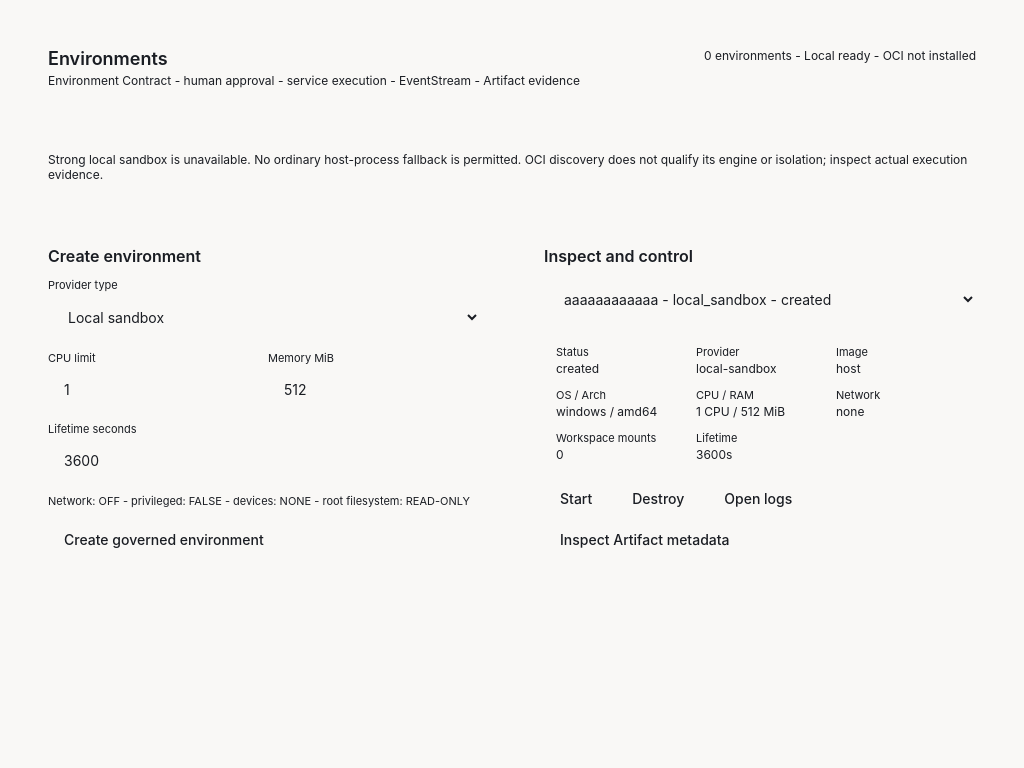
Scenario: environment inspector › shows persisted failure after approval without offering the spent decision again
Click the button "Start" at {"x": 576, "y": 498}, box [544,482,608,515]
(page scrolled)
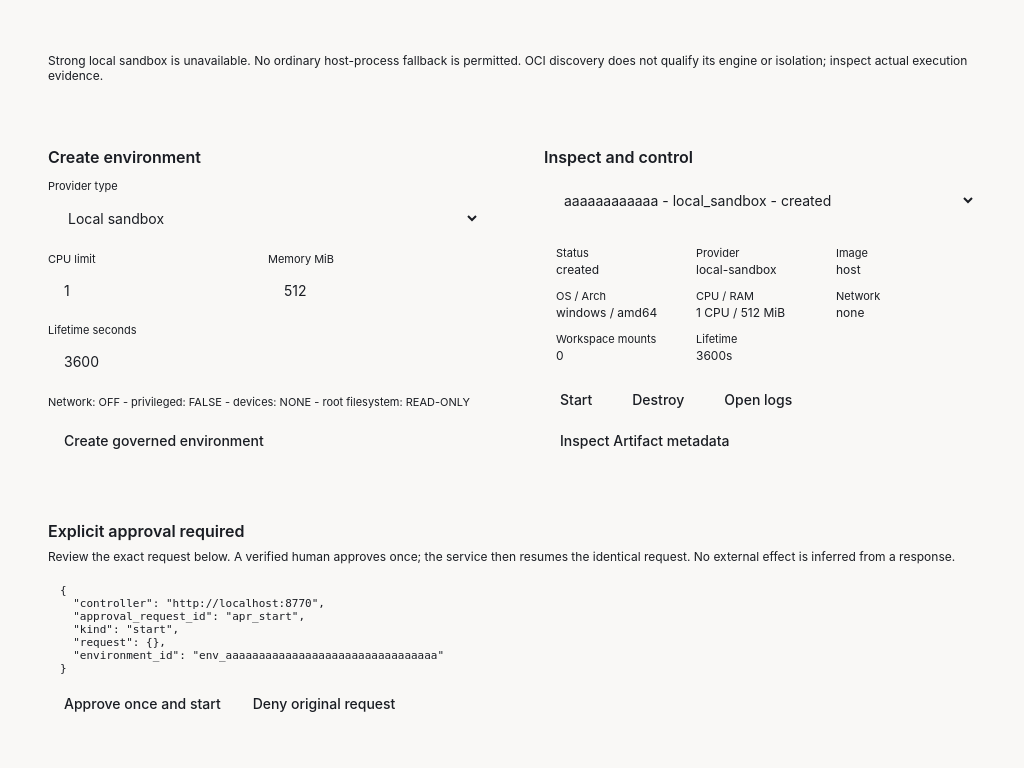
Click the button "Approve once and start" at {"x": 142, "y": 704}, box [48,687,237,720]
(page scrolled)
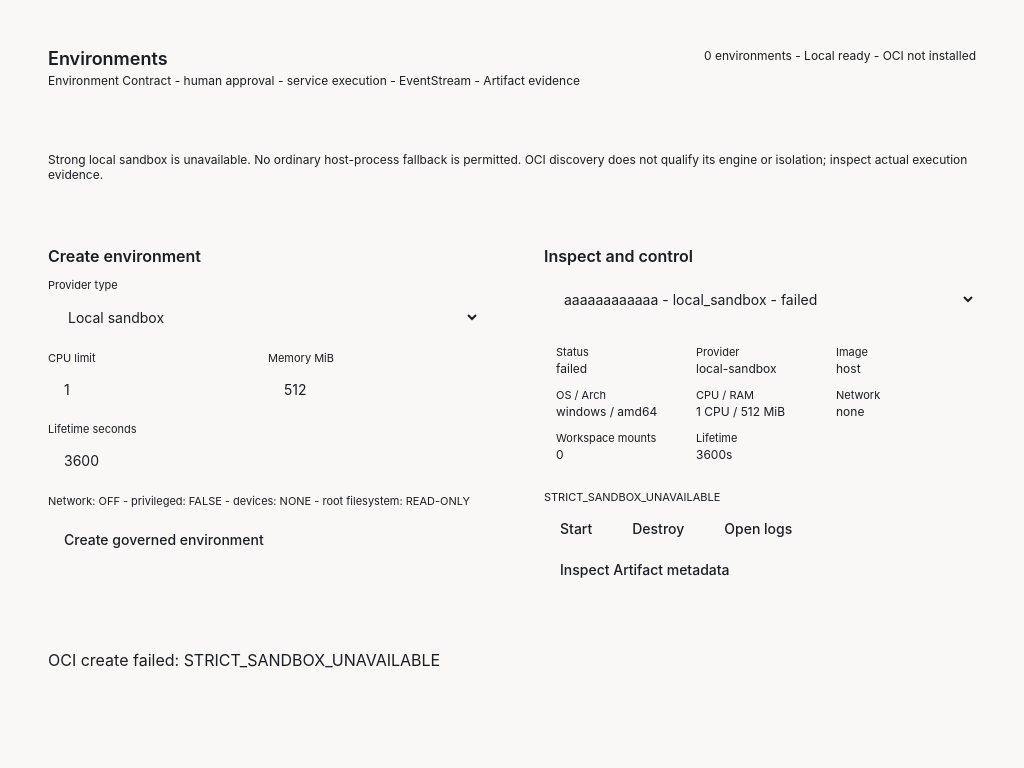
Check: the text "OCI create failed: STRICT_SANDBOX_UNAVAILABLE" is shown, box [48,650,440,670]
Check: the text "Explicit approval required" is gone
